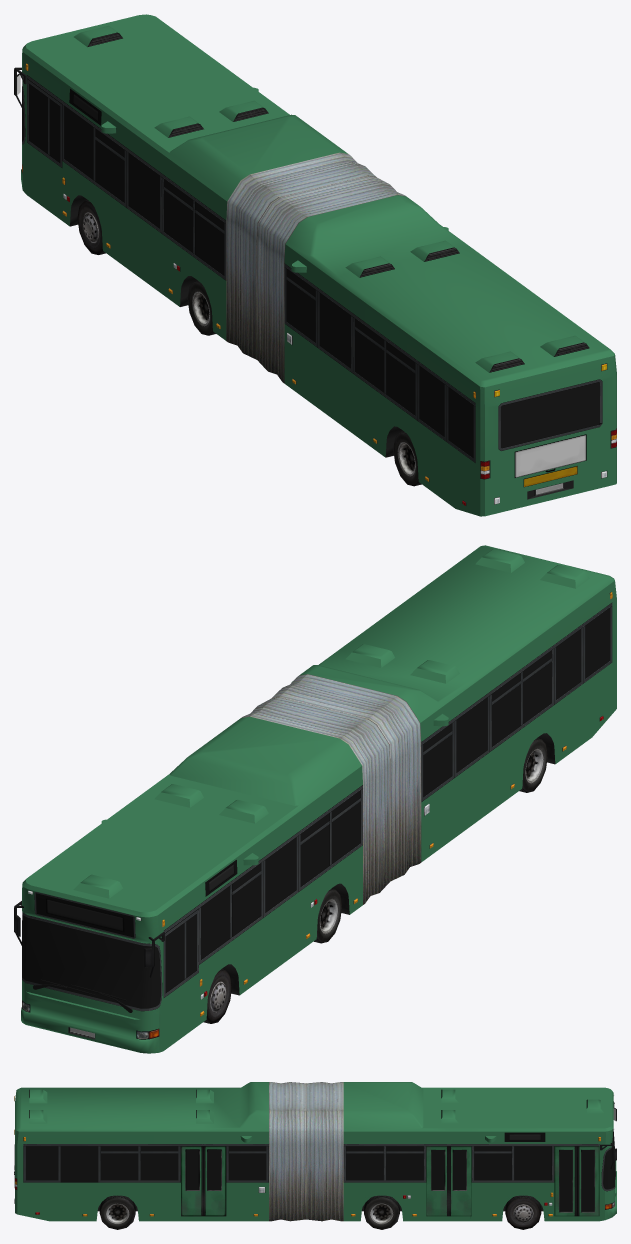
Rendered from Metro_Bus_01.fbx.
The picture shows the model from 3 angles, top to bottom: view 1: azimuth 30°, elevation 25°; view 2: azimuth 150°, elevation 25°; view 3: azimuth 270°, elevation 25°; orthographic projection. The views are drawn at different scales.
Visible parts, largest first — view 1: MetroBus_Body, MetroBus_GlassWindows, Tire_2, Tire_3, Tire_4; view 2: MetroBus_Body, MetroBus_GlassWindows, MetroBus_WindowBoard, Tire_2, Tire_4, Tire_3; view 3: MetroBus_Body, MetroBus_GlassWindows, Door (×6), Glass (×6), Tire_5, Tire_1, Tire_6.
Boxes of the visible parts, x1,y1,x2,y2 form: MetroBus_Body: (14,14,616,516); MetroBus_GlassWindows: (29,84,598,457); Tire_2: (393,431,421,486); Tire_3: (187,280,215,335); Tire_4: (77,200,105,254); MetroBus_Body: (14,545,616,1053); MetroBus_GlassWindows: (25,608,610,1008); MetroBus_WindowBoard: (36,893,133,937); Tire_2: (519,738,547,792); Tire_4: (203,969,231,1023); Tire_3: (314,888,342,943); MetroBus_Body: (14,1082,616,1221); MetroBus_GlassWindows: (26,1131,614,1182); Door (×6): (181,1146,599,1216); Glass (×6): (186,1150,594,1211); Tire_5: (505,1195,541,1229); Tire_1: (99,1195,135,1229); Tire_6: (364,1195,399,1229).
Bounding box in the file's own units: 29.53 × 32.06 × 154.
